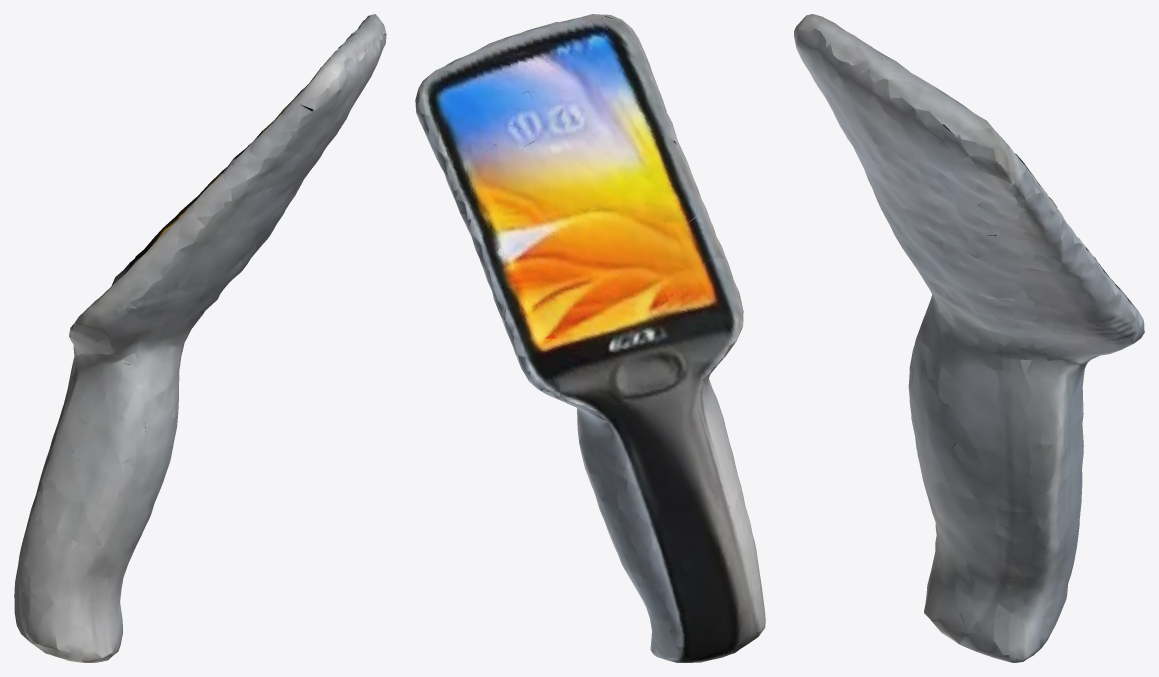
Rendered from PS30_orig.glb.
The picture shows the model from 3 angles, left to right: view 1: azimuth 30°, elevation 25°; view 2: azimuth 150°, elevation 25°; view 3: azimuth 270°, elevation 25°; orthographic projection. The views are drawn at different scales.
Visible parts, largest first — view 1: world; view 2: world; view 3: world.
Part boxes in pixels (x1,y1,x2,y2): world: (14,14,386,662); world: (415,14,765,662); world: (794,14,1144,662).
Size of the model in its own units: 0.6077 by 0.958 by 0.4177.
1 material, 1 textured.
